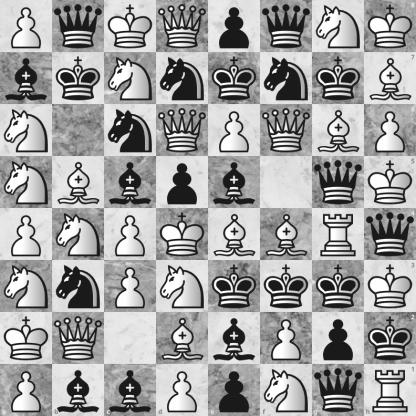B: (364, 52, 416, 104), (53, 157, 104, 208), (157, 313, 208, 364), (209, 209, 260, 260), (261, 209, 312, 260), (313, 105, 364, 156)
K: (364, 156, 416, 209), (364, 0, 416, 52), (364, 260, 416, 312), (1, 313, 52, 364), (105, 1, 156, 52), (157, 209, 208, 260)
N: (260, 364, 312, 416), (1, 105, 52, 156), (1, 157, 52, 208), (1, 261, 52, 312), (53, 209, 104, 260), (105, 53, 156, 104), (157, 261, 208, 312), (313, 1, 364, 52)
P: (156, 364, 209, 416), (0, 364, 52, 416), (364, 104, 416, 156), (1, 1, 52, 52), (1, 209, 52, 260), (105, 209, 156, 260), (105, 261, 156, 312), (209, 105, 260, 156), (261, 313, 312, 364)
Q: (53, 313, 104, 364), (157, 1, 208, 52), (157, 105, 208, 156), (261, 105, 312, 156)
R: (364, 364, 416, 416), (313, 209, 364, 260)
b: (52, 364, 104, 416), (104, 364, 156, 416), (1, 53, 52, 104), (105, 157, 156, 208), (209, 157, 260, 208), (209, 313, 260, 364)
board: (0, 0, 415, 415)
k: (364, 312, 416, 364), (53, 53, 104, 104), (209, 53, 260, 104), (209, 261, 260, 312), (261, 261, 312, 312), (313, 53, 364, 104), (313, 261, 364, 312)
n: (53, 261, 104, 312), (105, 105, 156, 156), (157, 53, 208, 104), (261, 53, 312, 104)
p: (209, 364, 260, 416), (157, 157, 208, 208), (209, 1, 260, 52), (313, 313, 364, 364)
q: (312, 364, 364, 416), (364, 209, 416, 260), (53, 1, 104, 52), (261, 1, 312, 52), (313, 157, 364, 208)
